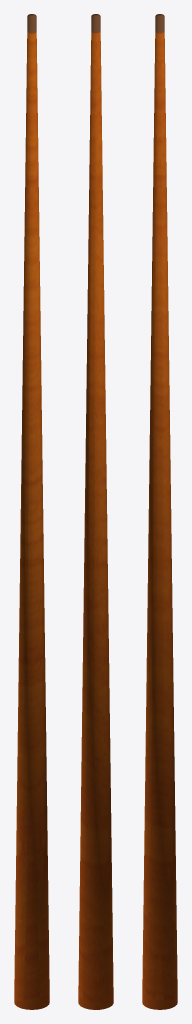
The model's file is club.obj.
3 renders of one model, left to right at view 1: azimuth 90°, elevation 25°; view 2: azimuth 210°, elevation 25°; view 3: azimuth 270°, elevation 25°, orthographic.
Parts seen in each view (by area): view 1: Cylinder_Cylinder_None; view 2: Cylinder_Cylinder_None; view 3: Cylinder_Cylinder_None.
Part boxes in pixels (x1,y1,x2,y2): Cylinder_Cylinder_None: (14, 14, 49, 1009); Cylinder_Cylinder_None: (78, 14, 113, 1009); Cylinder_Cylinder_None: (142, 14, 177, 1009).
Bounding box in the file's own units: 2 × 61.12 × 2.
